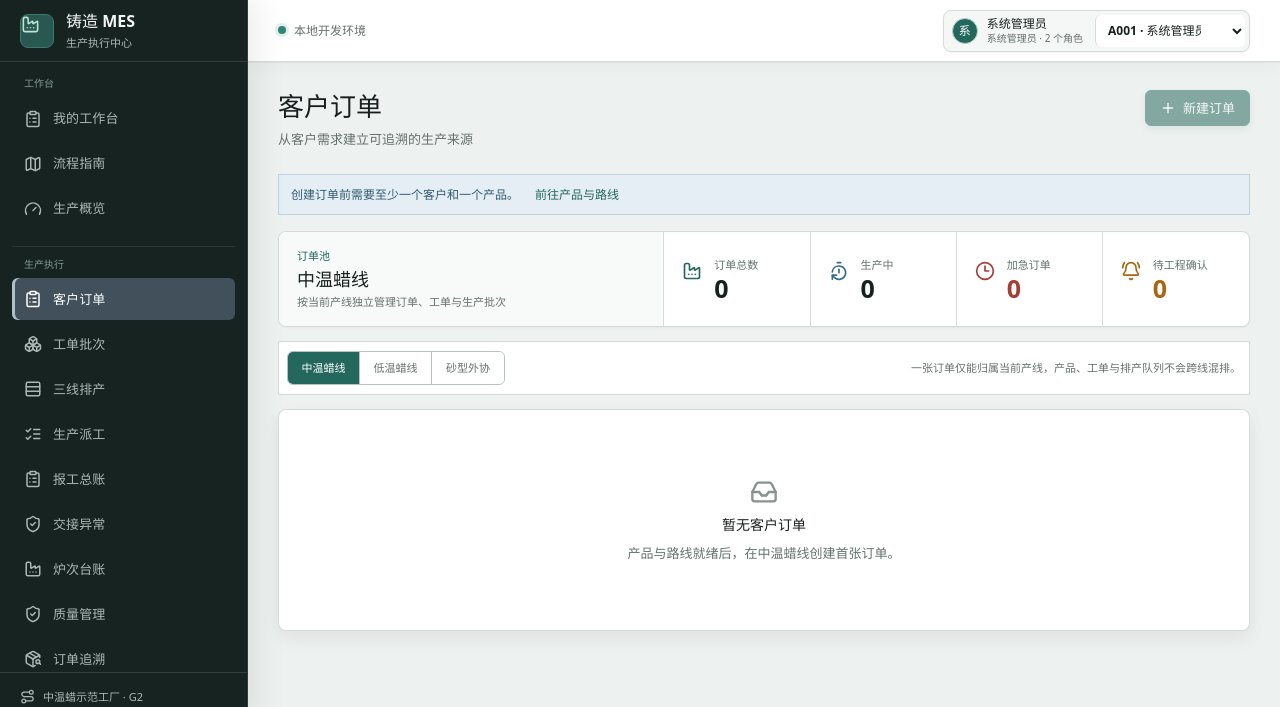
Casting MES application › does not mount a restricted lazy page after a role switch
Expected: the text "暂无客户订单" is shown, [722,515,806,535]
Select "W001 · 射蜡操作员 · 现场操作员" in the dropdown named "当前模拟用户": (1170, 30) [1095,14,1245,46]
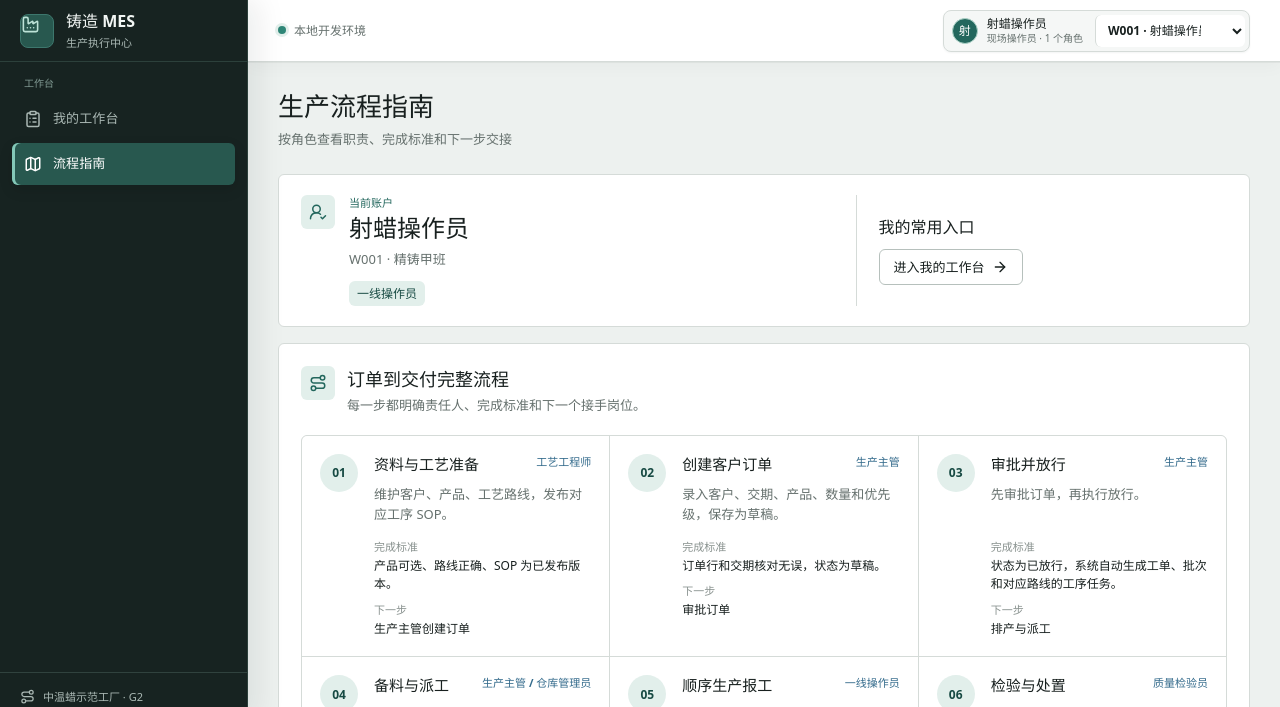
Result: the heading "生产流程指南" is shown at [278,88,434,124]
Result: the text "暂无客户订单" is gone
